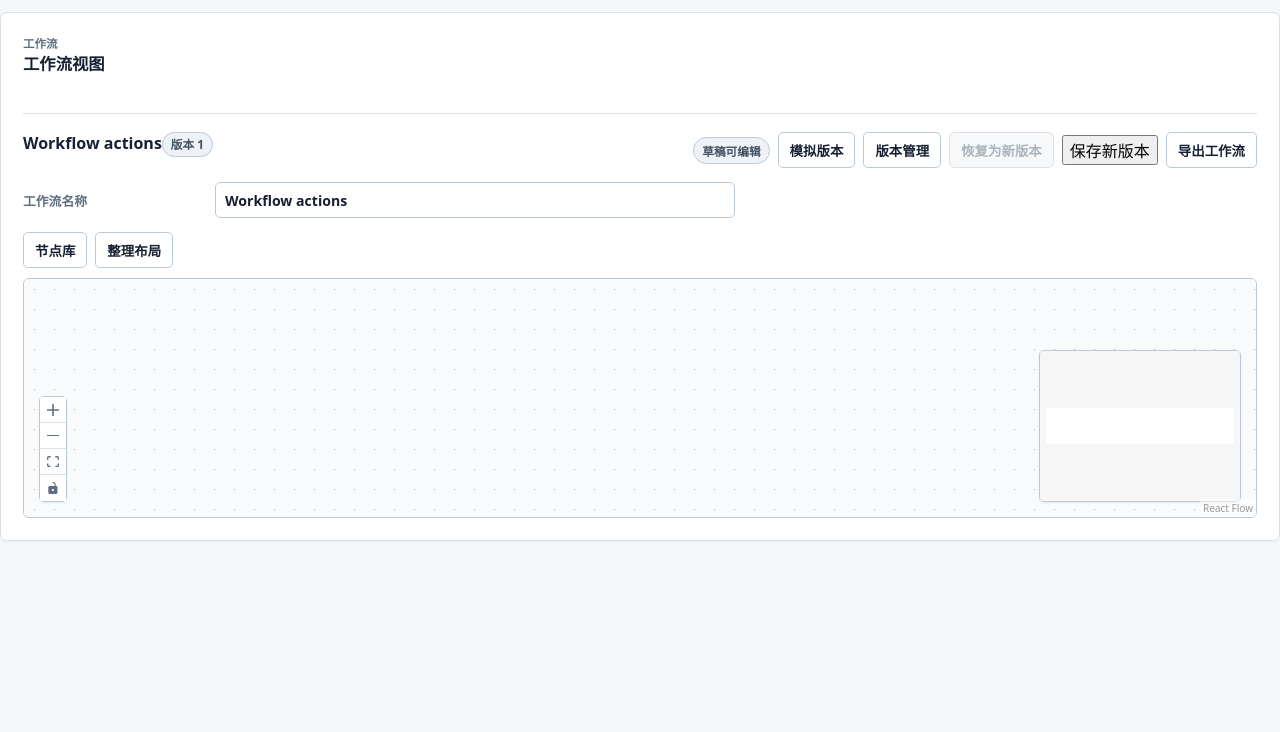
Test: WorkflowViewer › keeps workflow actions in the canvas toolbar when configuration is open
The width and height of the screenshot is (1280, 732).
Click the button with aria-label "工作流配置".
click(902, 150)  # box [863,132,941,168]
(page scrolled)
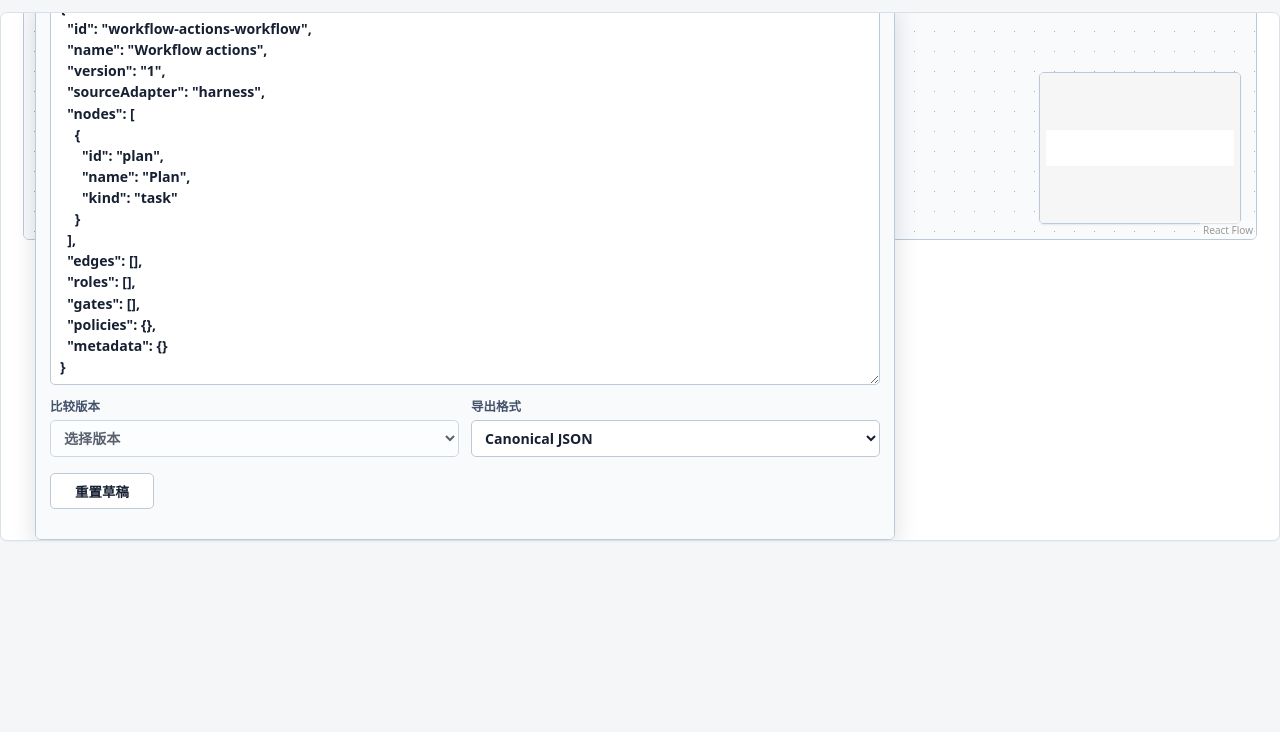
expect the button "重置草稿" is shown: met, box [50,473,154,509]
